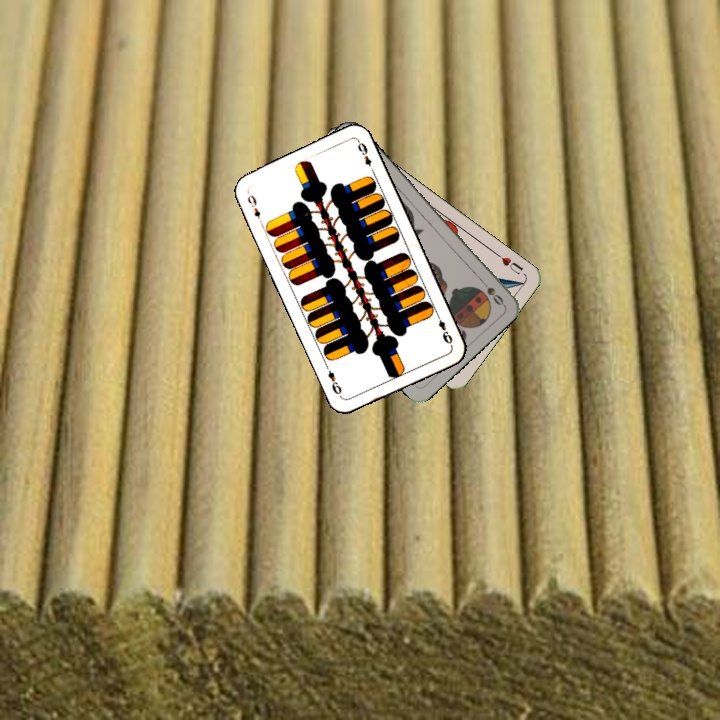E9: (432, 309, 455, 347), (243, 188, 263, 221)
HU: (492, 249, 526, 277)
SO: (475, 274, 507, 308)
